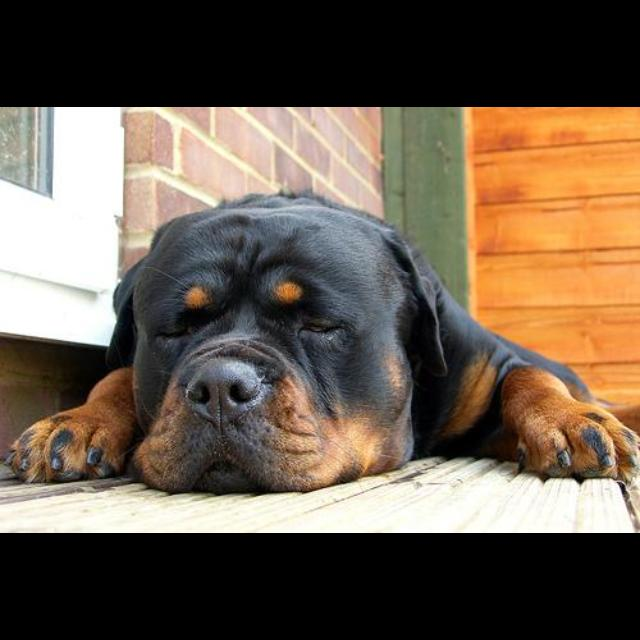rottweiler: (5, 188, 639, 496)
